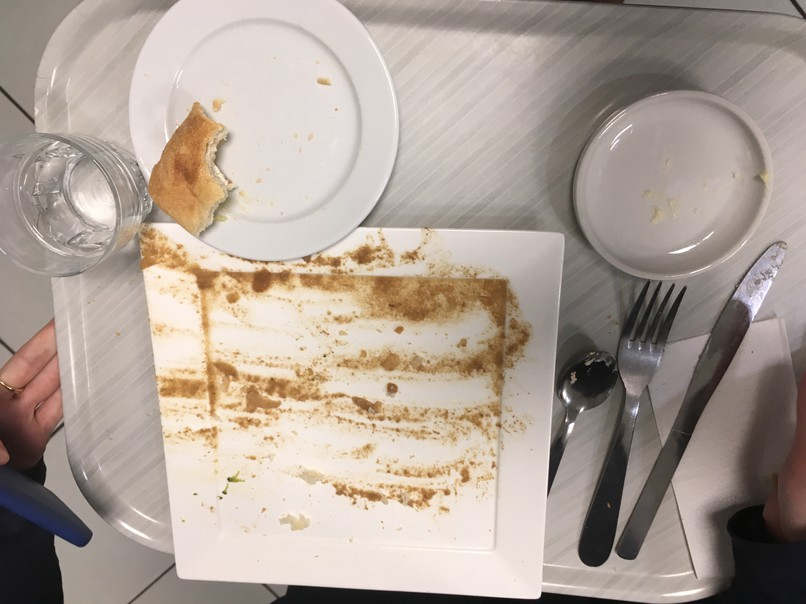cup: (1, 110, 163, 324)
cutlery: (564, 257, 688, 584), (701, 231, 806, 360)
orga: (146, 103, 237, 239)
trash: (643, 323, 806, 593)
